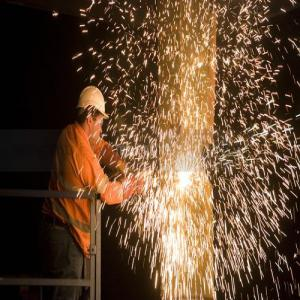white: (78, 85, 107, 145)
